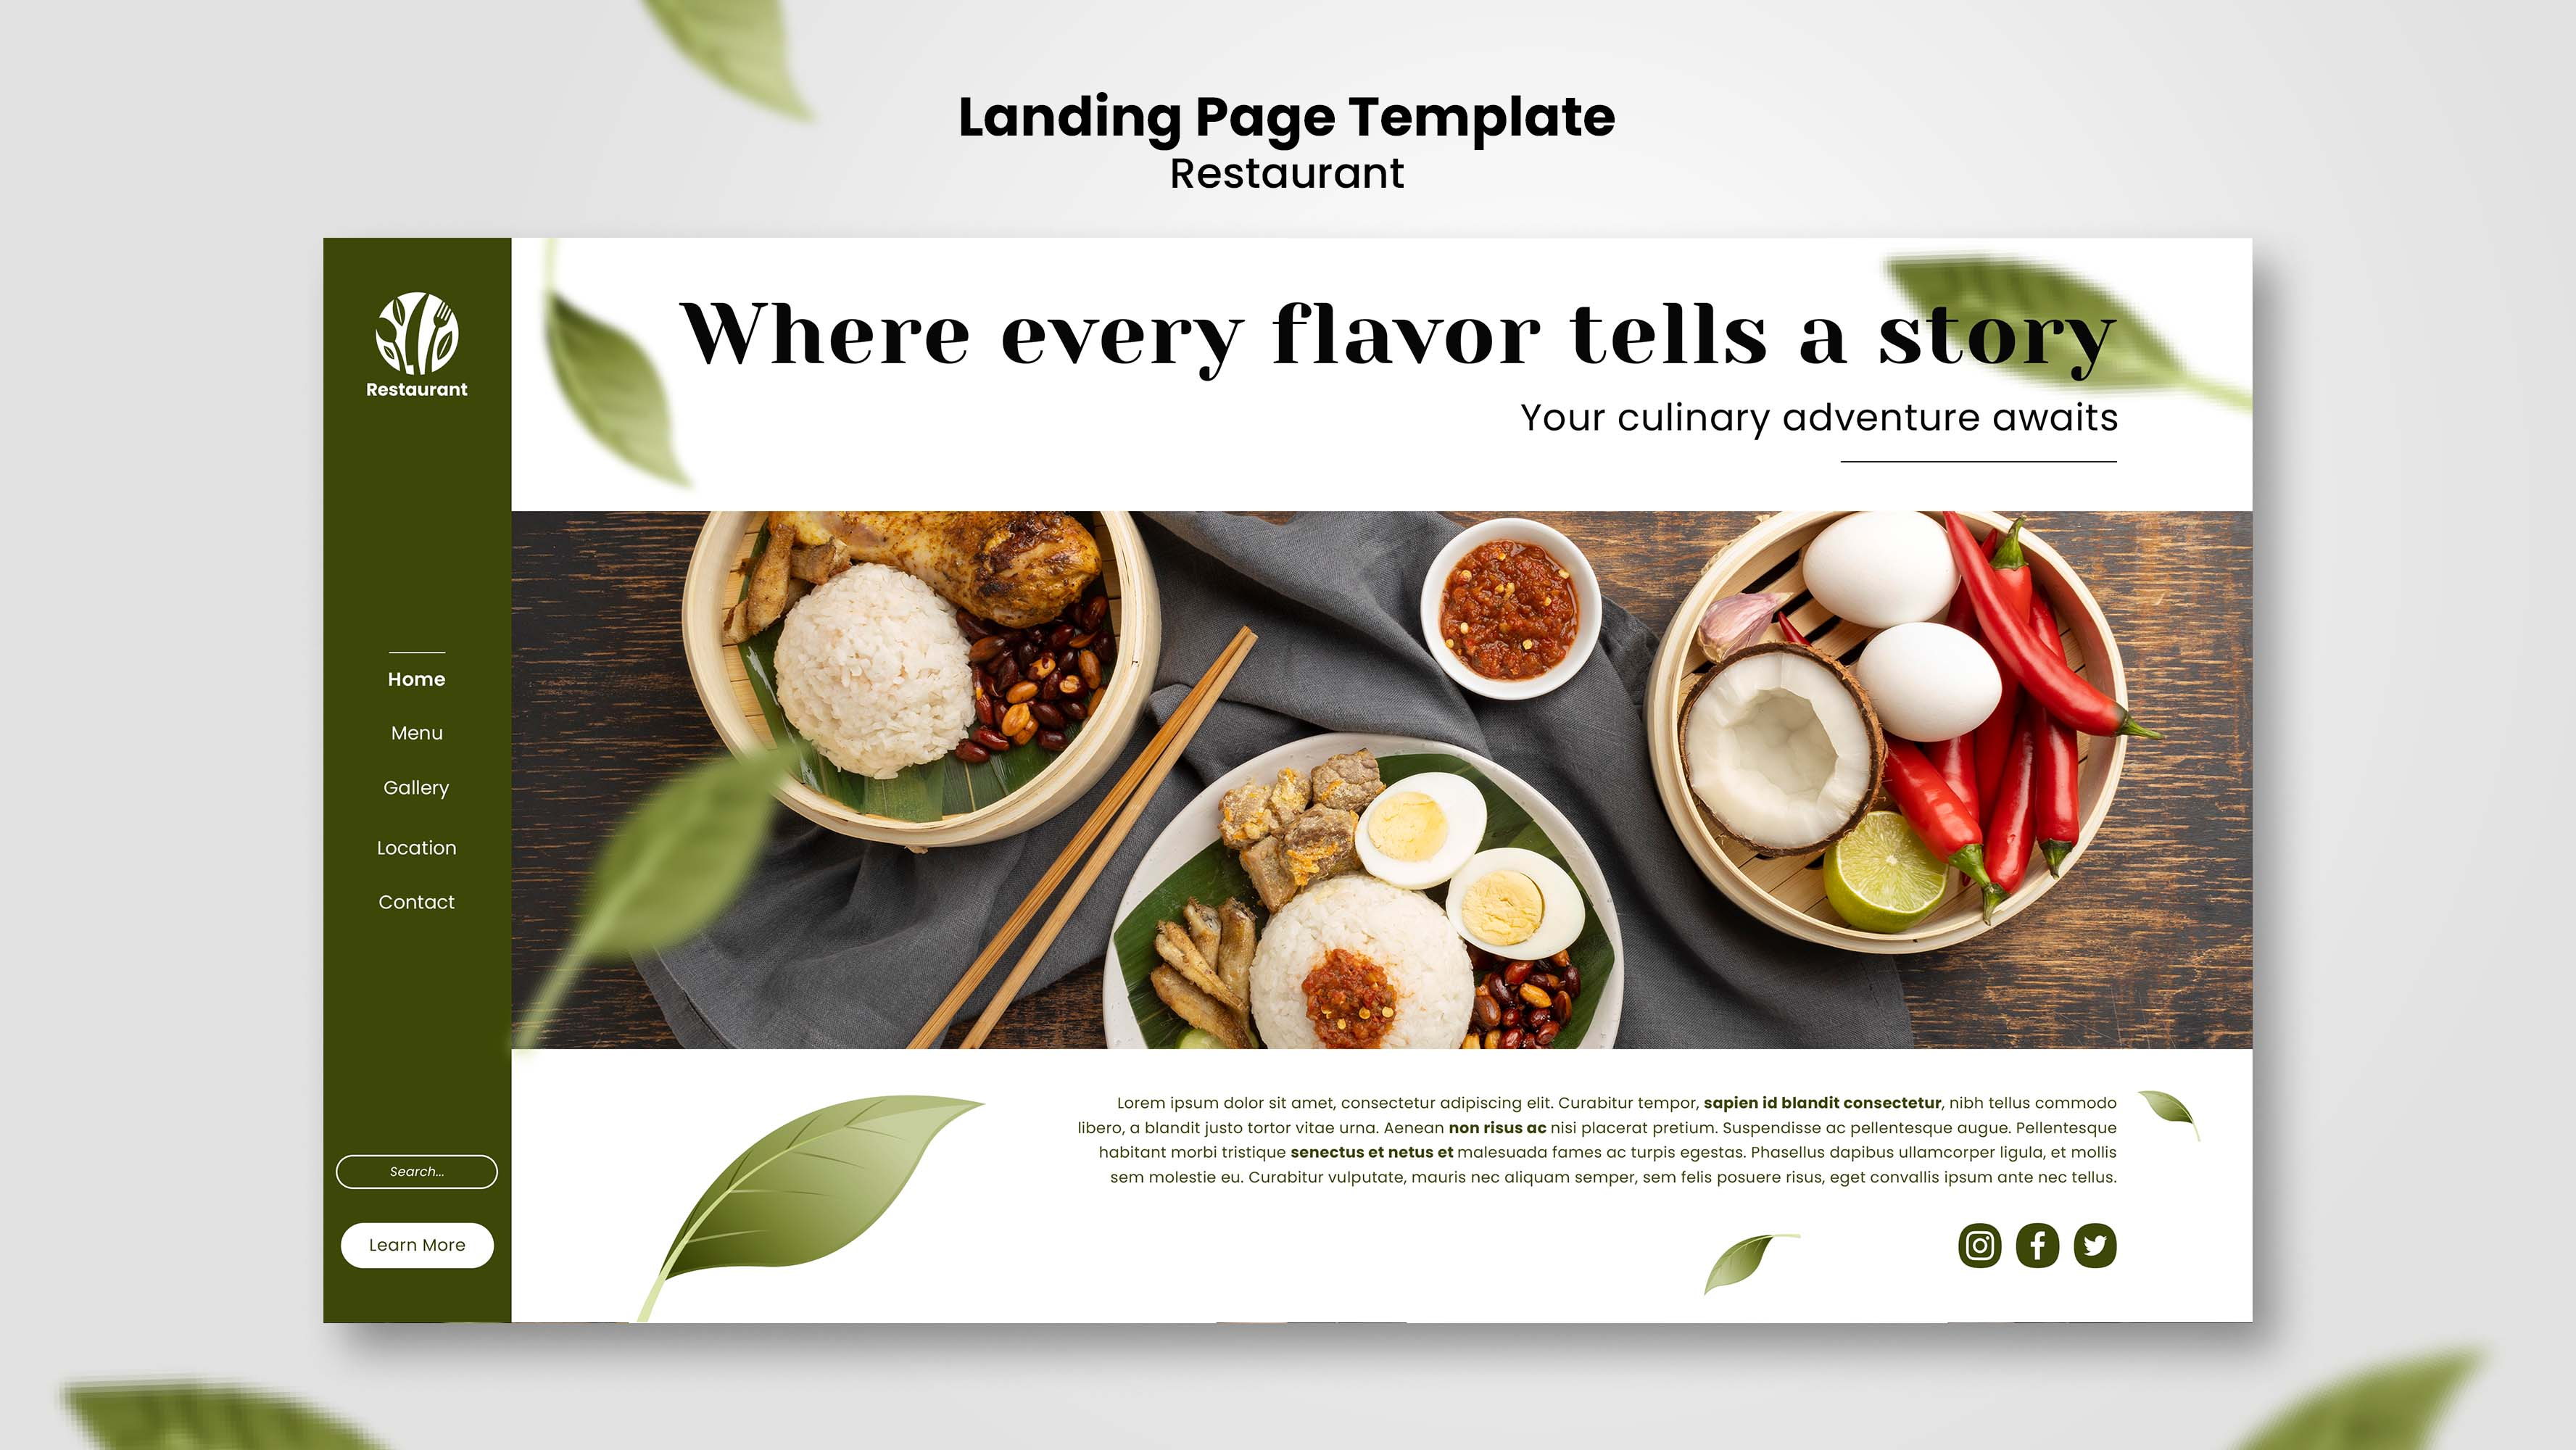menu-bar: (347, 260, 504, 1310)
